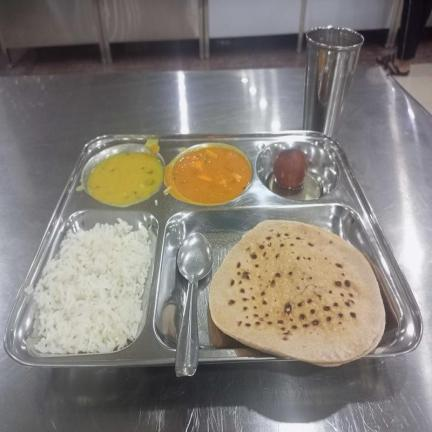Chana Dal: (88, 153, 164, 203)
Gulab Jamun: (271, 147, 309, 190)
Paneer: (173, 146, 252, 204)
Plate: (4, 130, 424, 366)
Rice: (24, 219, 153, 356)
Roti: (208, 219, 385, 367)
